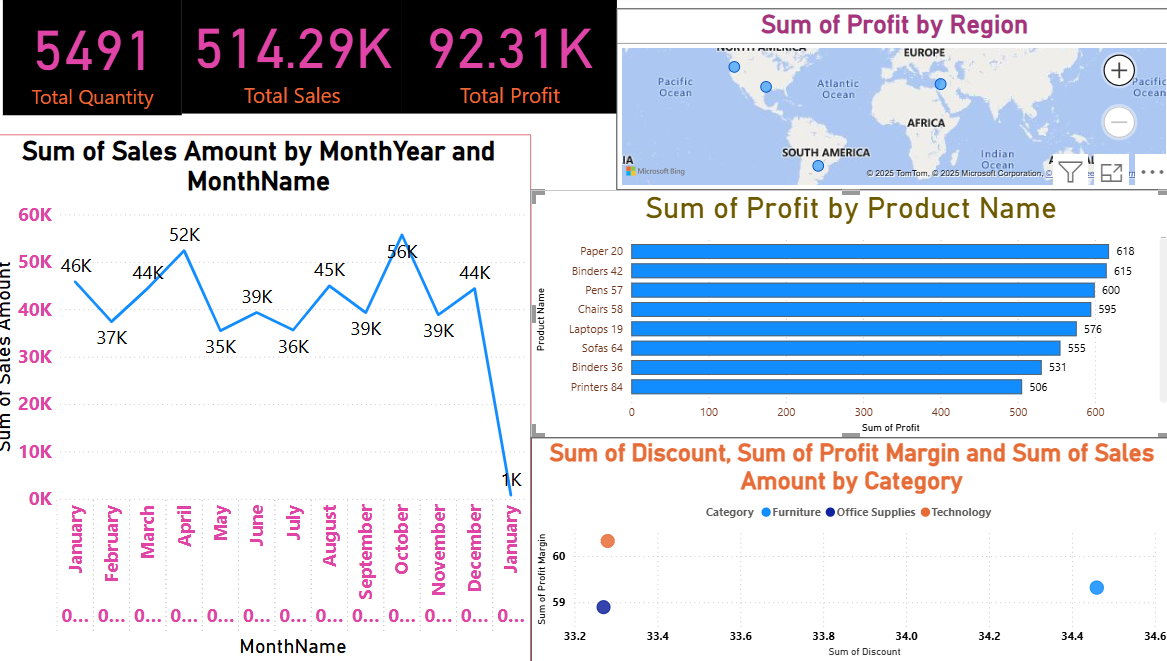

What the dashboard file says about the page in this screenshot:
{"tool":"powerbi","page":{"name":"Dashboard","canvas":[1280,720],"ordinal":0},"visuals":[{"type":"card","fields":{"Values":["Sheet1.Total Quantity"]},"box":[19.4,1.6,192.7,127.9],"z":0},{"type":"card","fields":{"Values":["Sheet1.Total Sales"]},"box":[212,0,238,128],"z":1000},{"type":"card","fields":{"Values":["Sheet1.Total Profit"]},"box":[450,0,232,128],"z":2000},{"type":"lineChart","fields":{"Y":["Sum(Sheet1.Sales Amount)"],"Category":["Sheet1.MonthYear","Sheet1.MonthName"]},"box":[0,150.6,589.4,570],"z":3000},{"type":"map","fields":{"Category":["Sheet1.Region"],"Size":["Sum(Sheet1.Profit)"]},"box":[681.7,14.6,599.1,195.9],"z":4000},{"type":"clusteredBarChart","fields":{"Category":["Sheet1.Product Name"],"Y":["Sum(Sheet1.Profit)"]},"box":[589.4,210.5,691.4,267.2],"z":5000},{"type":"scatterChart","fields":{"Y":["Sum(Sheet1.Profit Margin)"],"X":["Sum(Sheet1.Discount)"],"Size":["Sum(Sheet1.Sales Amount)"],"Series":["Sheet1.Category"]},"box":[589.4,477.7,691.4,242.9],"z":6000}]}

Visuals, with their boxes in screenshot pixels (x1, y1, x2, y2), scaled from the page's 1280x720 canvas onto the 1167x661 screenshot:
card - Sheet1.Total Quantity: locate(18, 1, 193, 119)
card - Sheet1.Total Sales: locate(193, 0, 410, 118)
card - Sheet1.Total Profit: locate(410, 0, 622, 118)
lineChart - Sum(Sheet1.Sales Amount) x Sheet1.MonthYear: locate(0, 138, 537, 660)
map - Sheet1.Region x Sum(Sheet1.Profit): locate(622, 13, 1166, 193)
clusteredBarChart - Sheet1.Product Name x Sum(Sheet1.Profit): locate(537, 193, 1166, 439)
scatterChart - Sum(Sheet1.Profit Margin) x Sum(Sheet1.Discount): locate(537, 439, 1166, 660)
